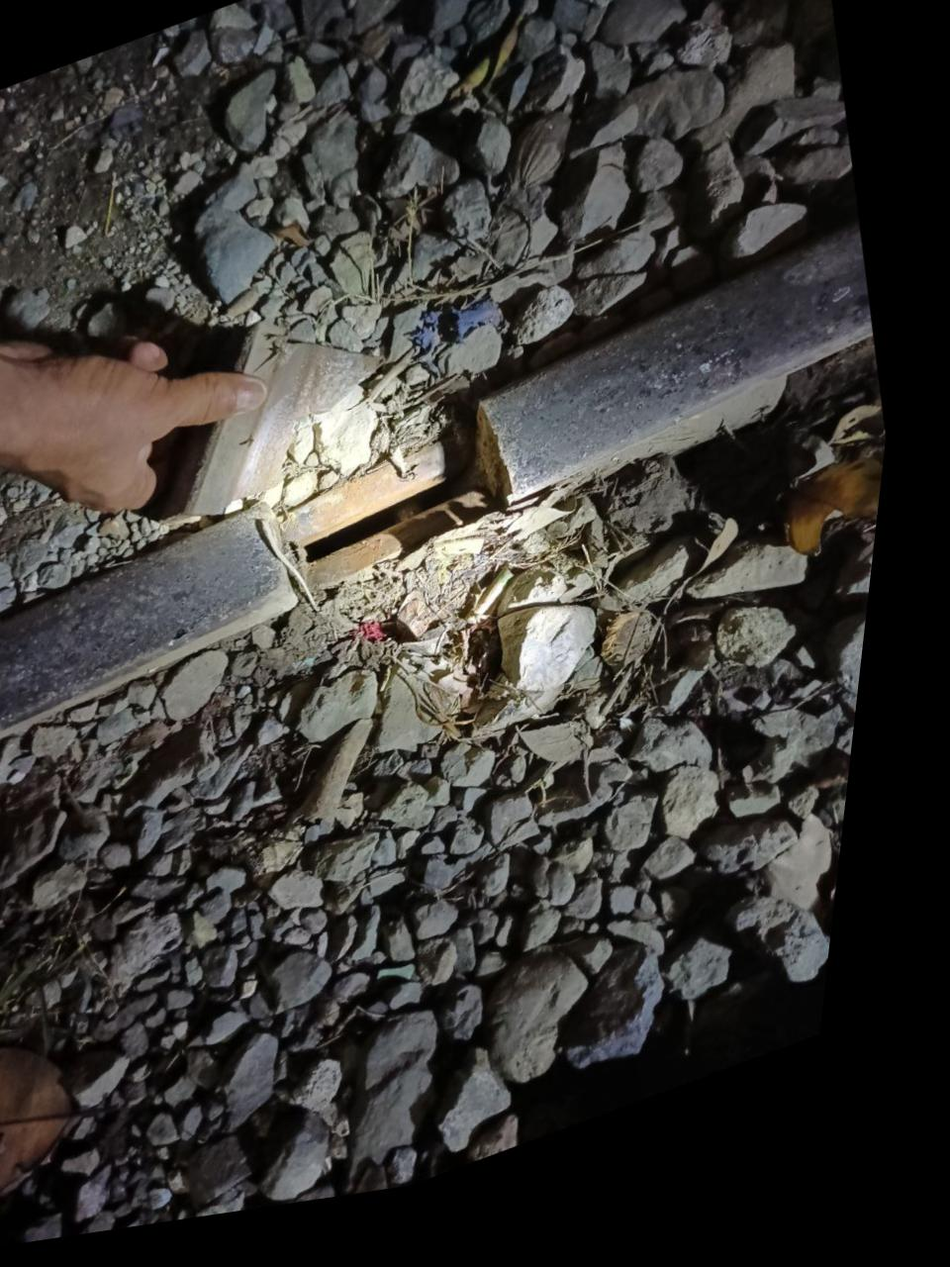person: (187, 376, 614, 662)
